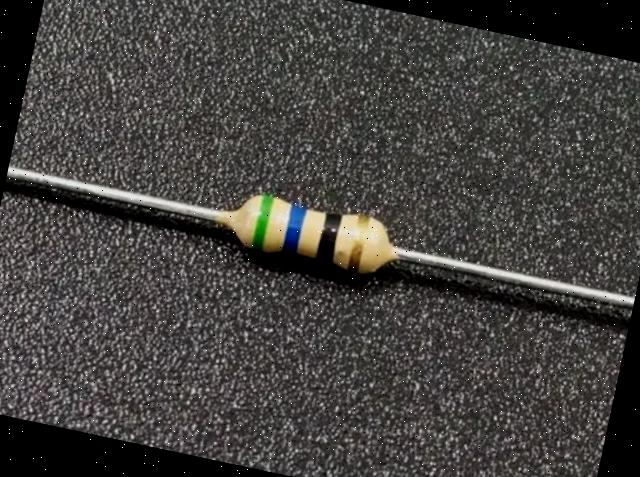black: (313, 214, 336, 263)
blue: (281, 206, 306, 254)
gold: (345, 216, 370, 272)
green: (248, 196, 275, 249)
resistor: (214, 178, 413, 292)
